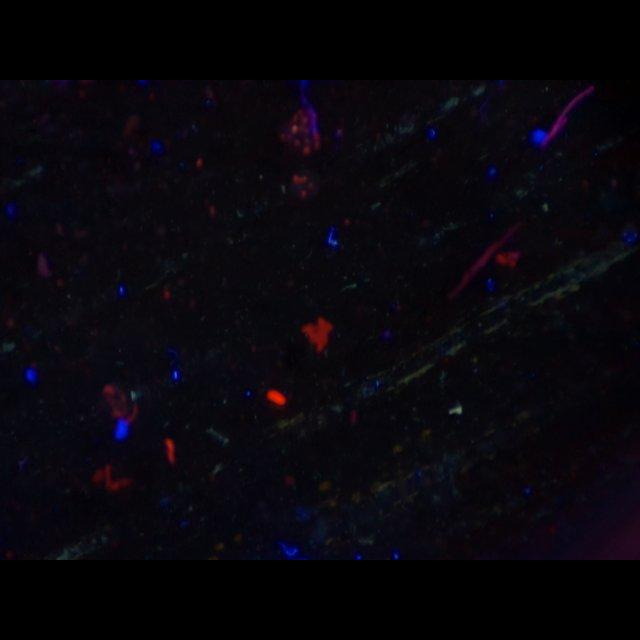microbeads: (448, 406, 464, 418)
